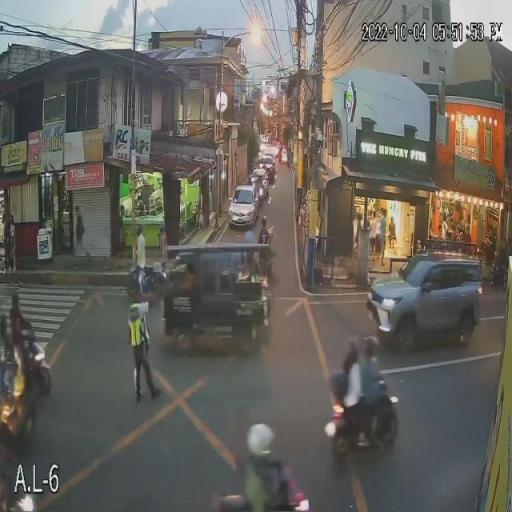helmet: (234, 414, 280, 458), (337, 333, 369, 365), (362, 333, 382, 365), (5, 290, 25, 304), (135, 223, 146, 235)
motorcycle: (318, 372, 415, 456), (206, 472, 322, 510), (0, 334, 59, 405), (126, 257, 174, 299)
rider: (242, 454, 292, 512), (337, 361, 370, 448), (363, 359, 394, 448), (13, 308, 35, 382), (133, 236, 157, 281)
